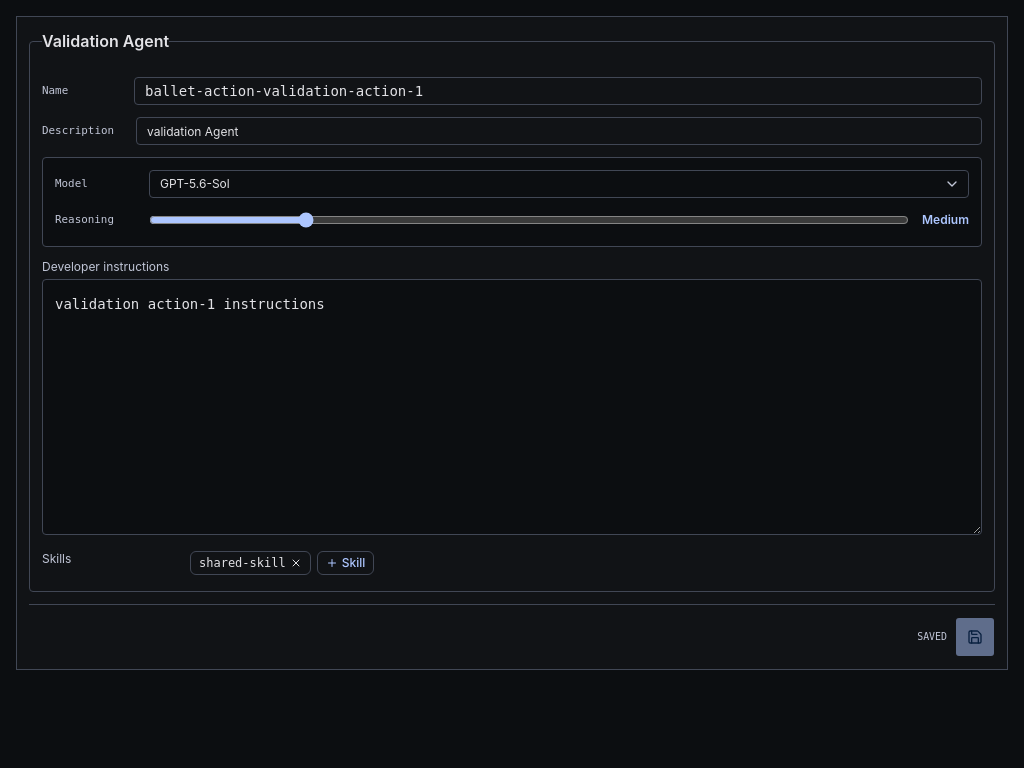
Test case: orchestration Configure editors › selects another model and applies its default reasoning
The image size is (1024, 768).
Click the dropdown named "Model". click: (195, 184)
box: x1=149 y1=170 x2=969 y2=198
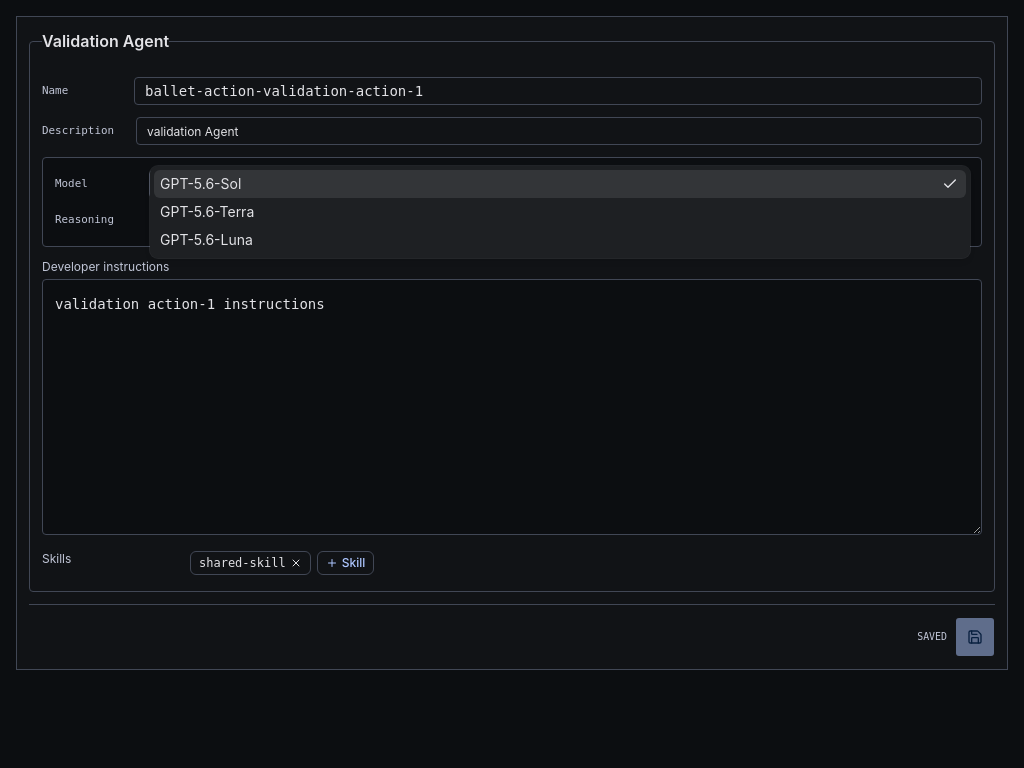
Click the option "GPT-5.6-Terra". click: (207, 212)
box: x1=160 y1=203 x2=254 y2=220
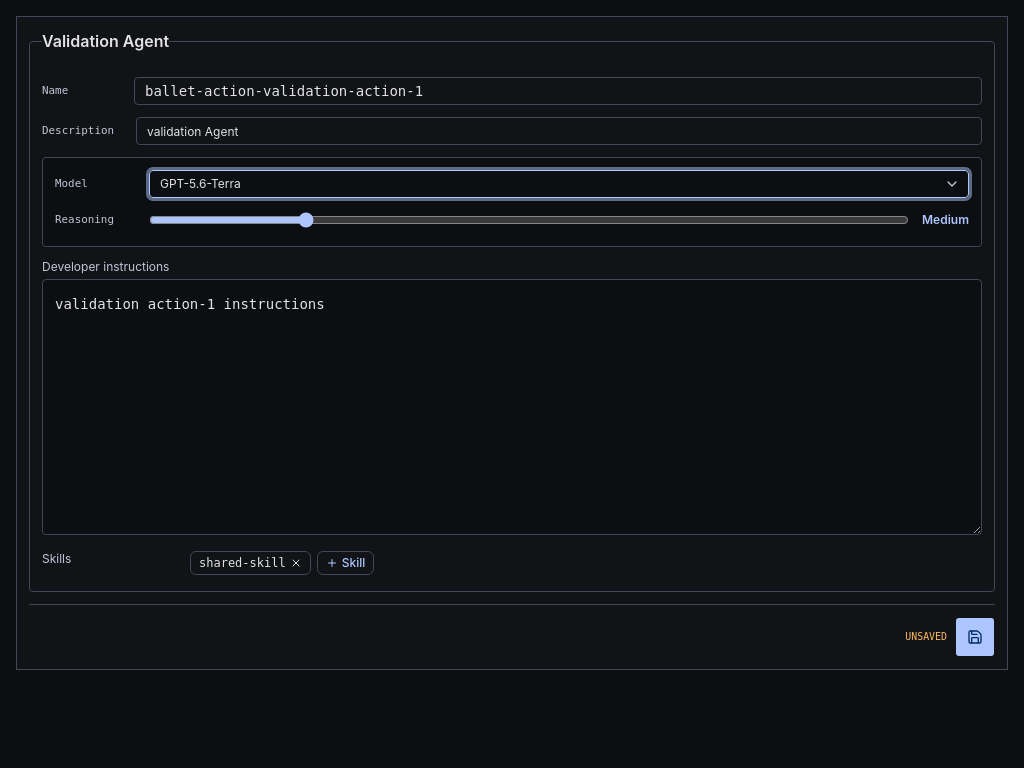
expect the dropdown named "Model" shows "GPT-5.6-Terra": met, box x1=149 y1=170 x2=969 y2=198
